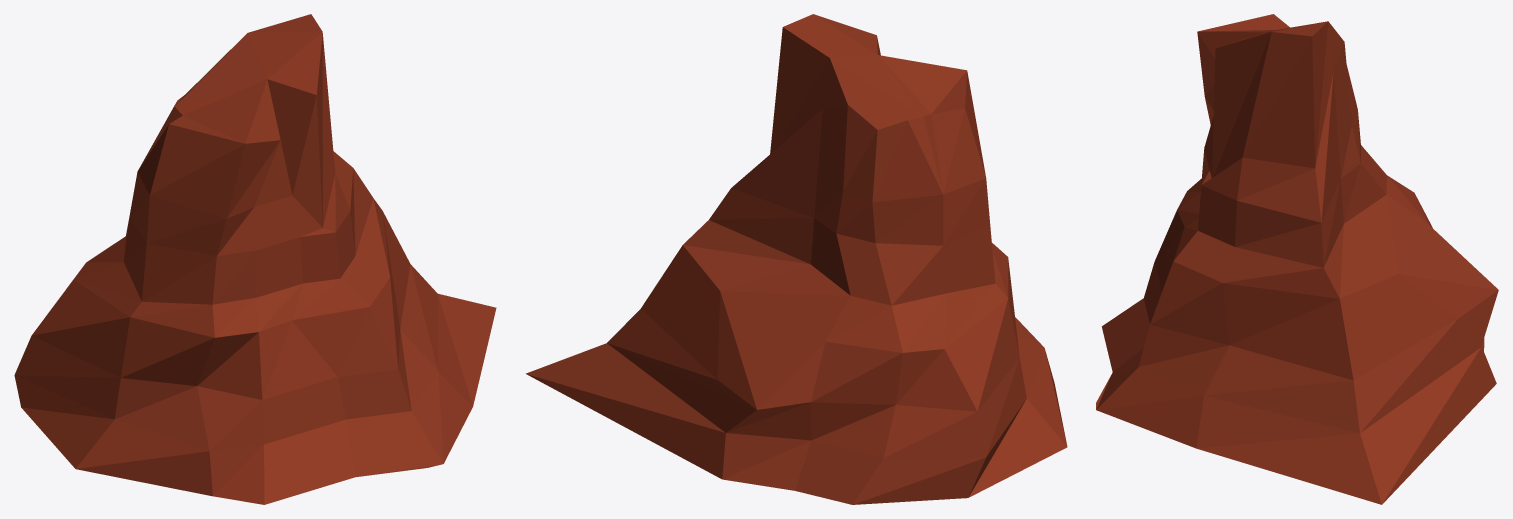
The model's file is duża góra1.FBX.
3 views of the same model, side by side, from view 1: azimuth 30°, elevation 25°; view 2: azimuth 150°, elevation 25°; view 3: azimuth 270°, elevation 25° (orthographic). The views are drawn at different scales.
Parts seen in each view (by area): view 1: Line005; view 2: Line005; view 3: Line005.
Part boxes in pixels (x1,y1,x2,y2): Line005: (14,14,496,504); Line005: (526,14,1067,504); Line005: (1096,14,1498,504).
Bounding box in the file's own units: 724 × 538 × 540.
